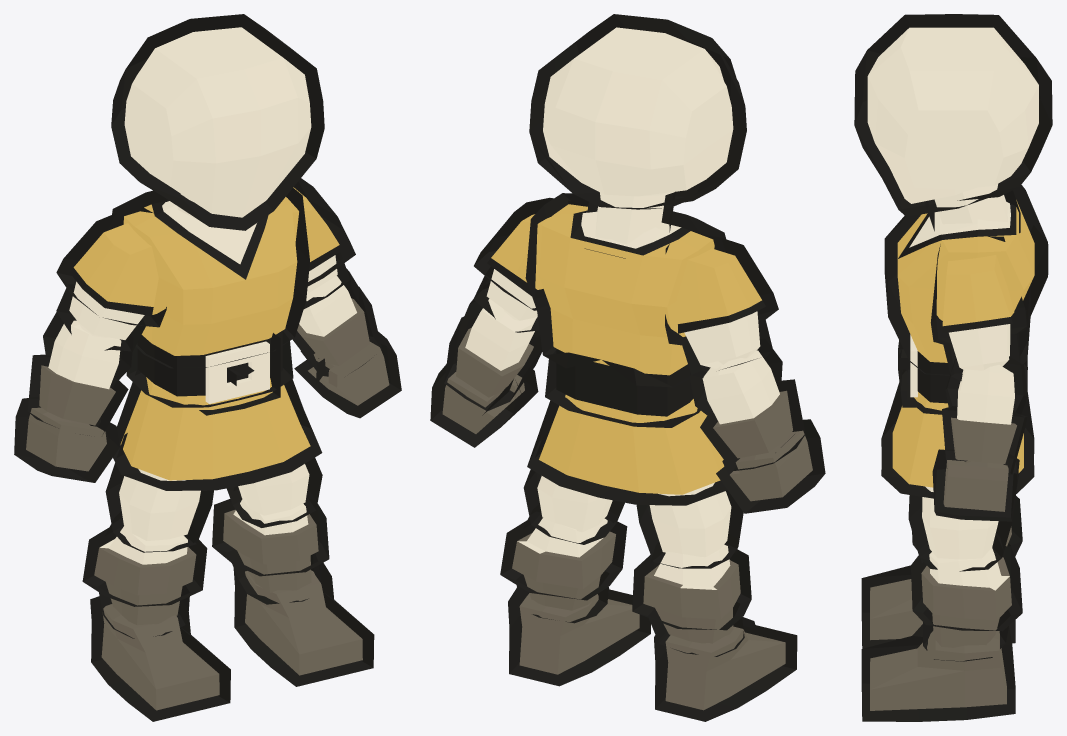
Rendered from adventurer.glb.
3 views of the same model, side by side, from view 1: azimuth 30°, elevation 25°; view 2: azimuth 150°, elevation 25°; view 3: azimuth 270°, elevation 25° (orthographic).
Parts seen in each view (by area): view 1: Cube.001; view 2: Cube.001; view 3: Cube.001.
Part boxes in pixels (bbox=[...]): Cube.001: bbox=[14, 14, 401, 721]; Cube.001: bbox=[430, 14, 825, 721]; Cube.001: bbox=[854, 14, 1052, 721].
Bounding box in the file's own units: 1.07 × 1.81 × 0.5139.
